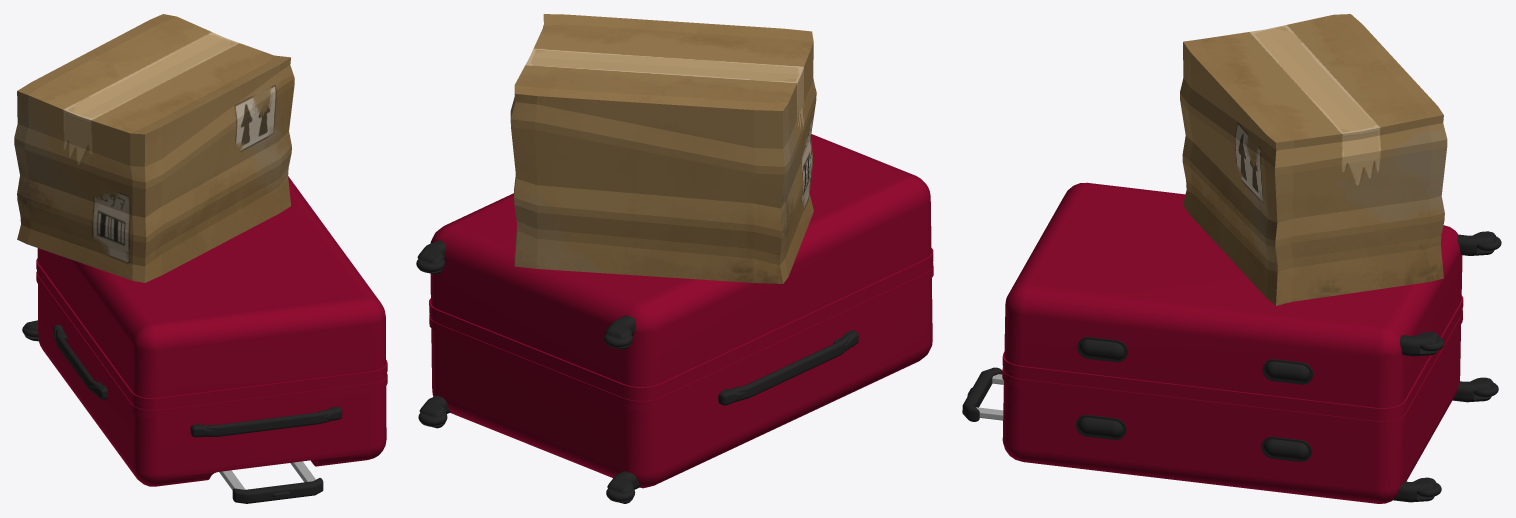
File: box suitcase.glb
3 views of the same model, side by side, from view 1: azimuth 30°, elevation 25°; view 2: azimuth 150°, elevation 25°; view 3: azimuth 270°, elevation 25° (orthographic). The views are drawn at different scales.
Visible parts, largest first — view 1: Object_5.002, box_0; view 2: Object_5.002, box_0; view 3: Object_5.002, box_0.
Boxes of the visible parts, left/top/right/bottom form: Object_5.002: left=22, top=176, right=387, bottom=503; box_0: left=14, top=14, right=294, bottom=282; Object_5.002: left=416, top=134, right=933, bottom=503; box_0: left=510, top=14, right=816, bottom=283; Object_5.002: left=962, top=182, right=1501, bottom=503; box_0: left=1180, top=14, right=1447, bottom=305.
Size of the model in its own units: 0.5744 by 0.59 by 0.8343.
Materials: 4 (1 with a texture image).
